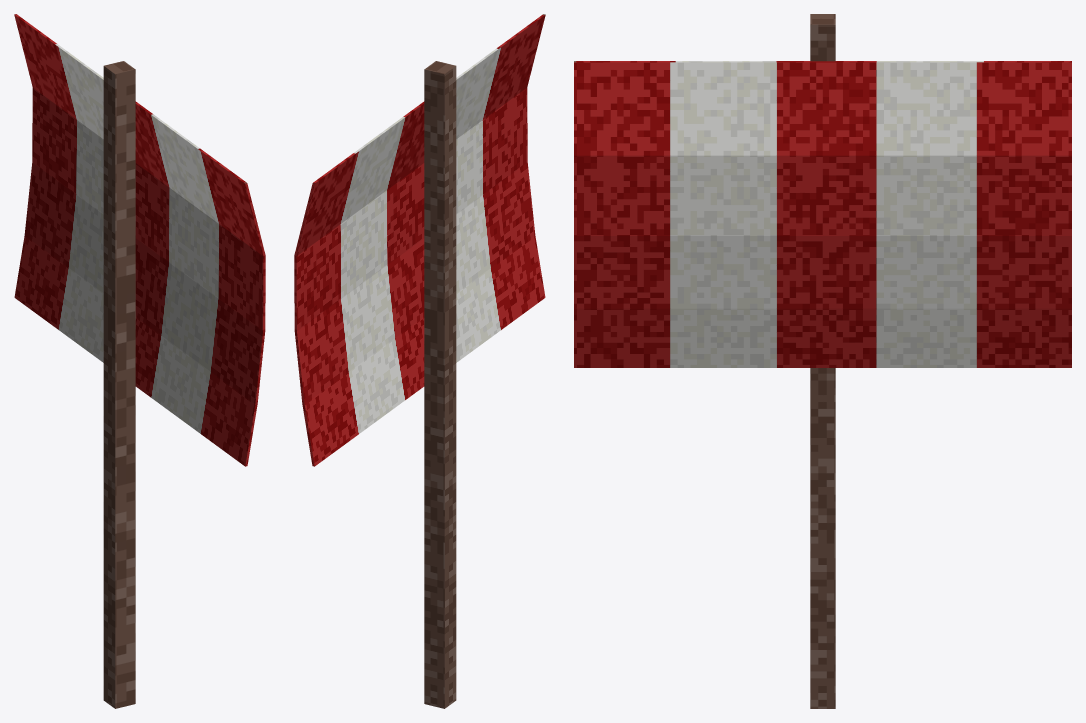
File: MastilGrecia.fbx
The picture shows the model from 3 angles, left to right: view 1: azimuth 30°, elevation 25°; view 2: azimuth 150°, elevation 25°; view 3: azimuth 270°, elevation 25°; orthographic projection. The views are drawn at different scales.
Visible parts, largest first — view 1: Cube; view 2: Cube; view 3: Cube.
Part boxes in pixels (bbox=[...]): Cube: bbox=[14, 14, 265, 708]; Cube: bbox=[294, 14, 545, 708]; Cube: bbox=[574, 14, 1071, 708].
Bounding box in the file's own units: 0.4048 × 3.96 × 6.
Materials: 1 (1 with a texture image).
